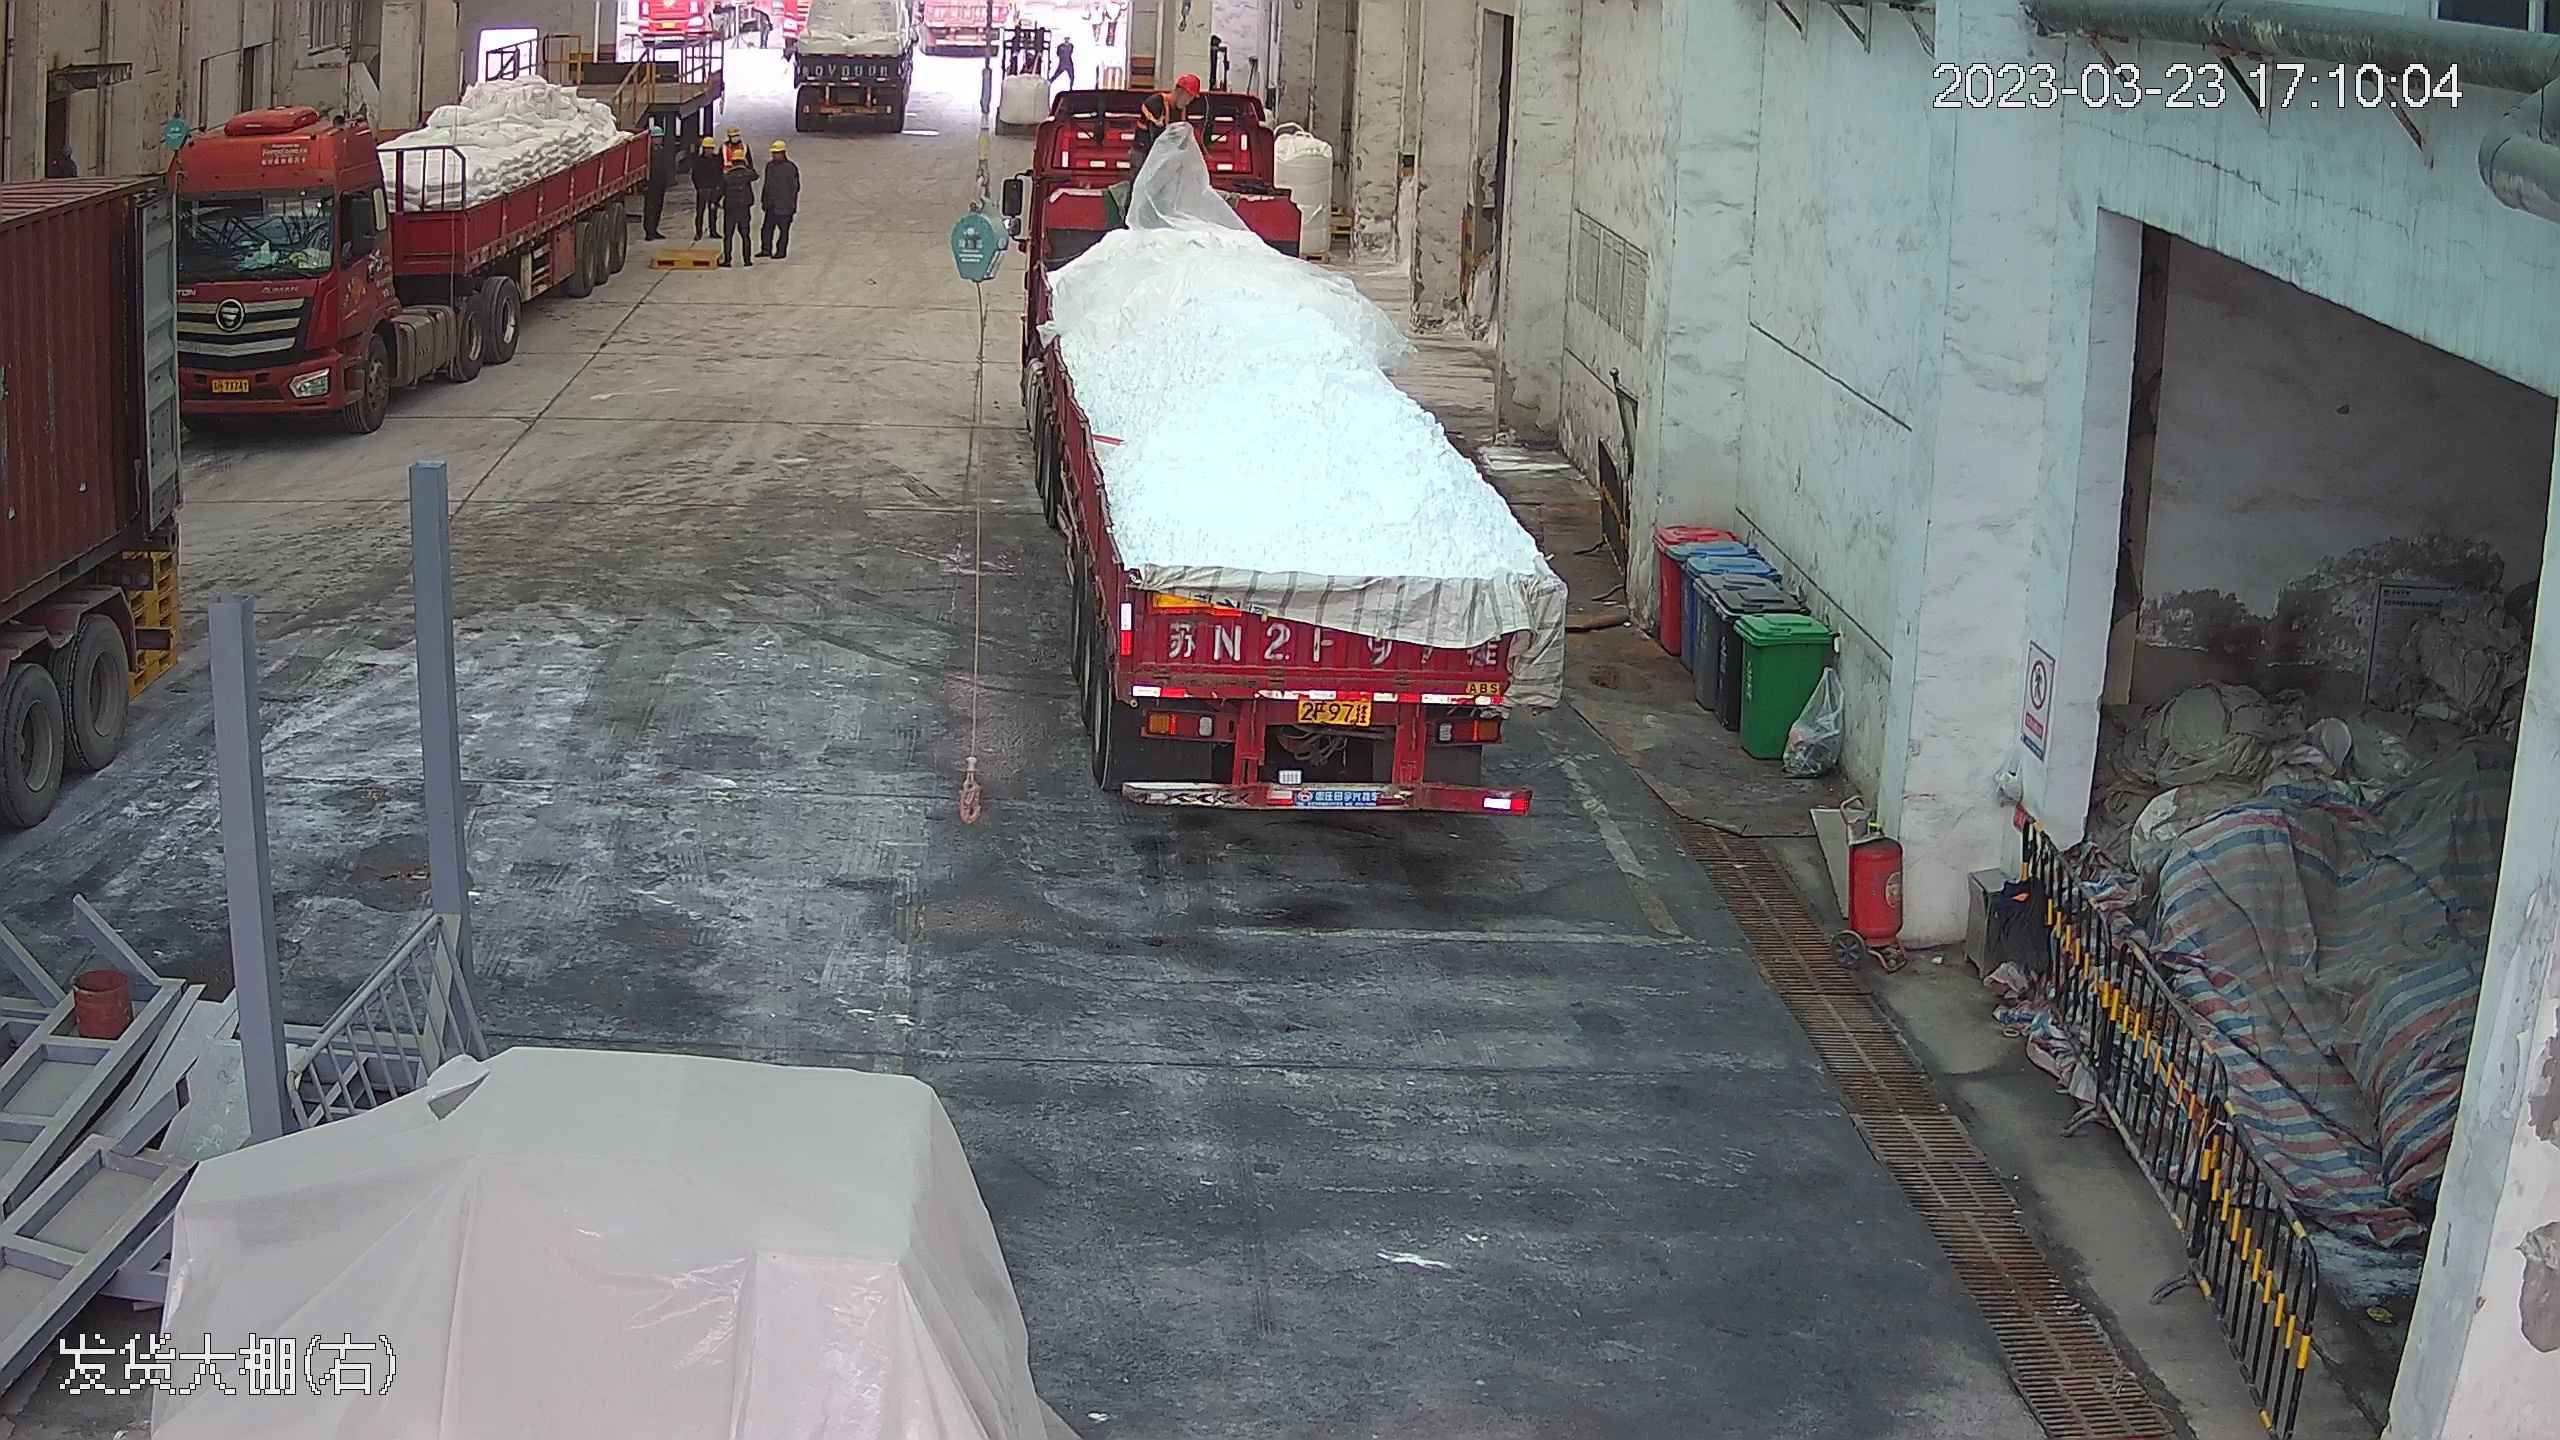belt: (1140, 87, 1188, 133)
head: (690, 130, 745, 178), (1158, 76, 1202, 118), (760, 135, 799, 177), (725, 148, 756, 190)
helmet: (769, 139, 787, 154), (725, 122, 741, 137), (730, 147, 746, 161), (701, 135, 716, 149), (651, 124, 665, 138)
people: (732, 136, 789, 261), (758, 136, 801, 258), (1135, 77, 1202, 155), (686, 130, 731, 241), (637, 116, 679, 236), (706, 132, 745, 260), (1047, 33, 1079, 88)
truck: (996, 63, 1561, 816), (1, 133, 197, 1112), (152, 66, 651, 442), (784, 6, 926, 138)
